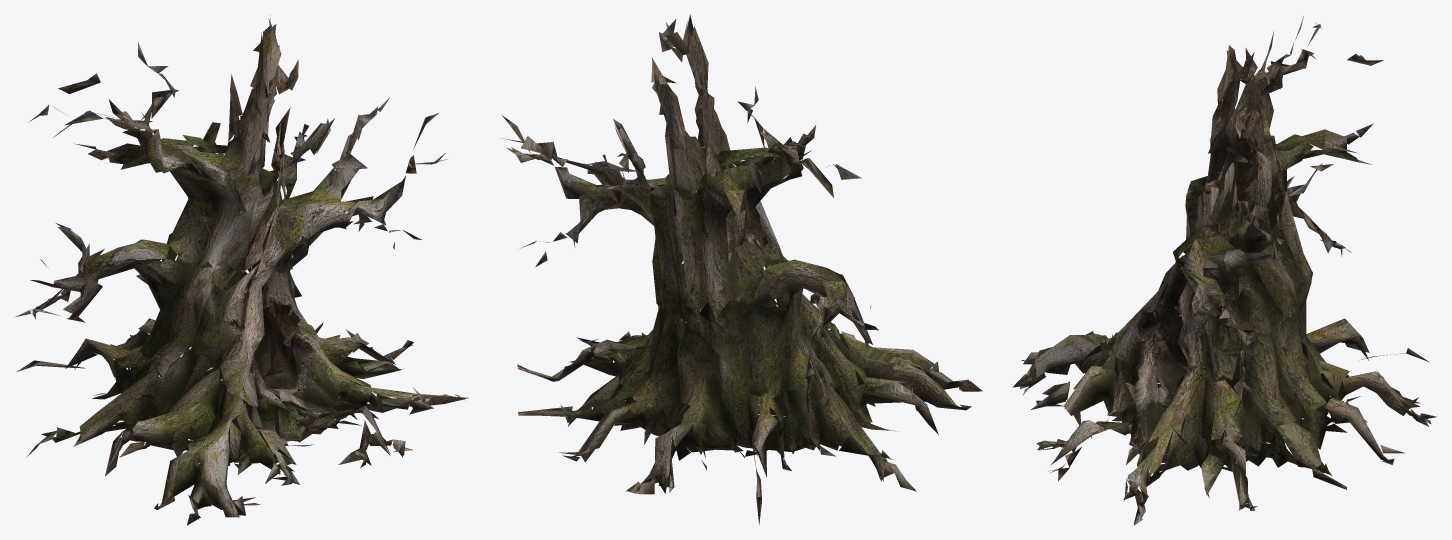
The model's file is tree_ancient.glb.
3 renders of one model, left to right at view 1: azimuth 30°, elevation 25°; view 2: azimuth 150°, elevation 25°; view 3: azimuth 270°, elevation 25°, orthographic. The views are drawn at different scales.
Parts seen in each view (by area): view 1: tripo_node_a9a5e387-6f7d-40e7-a6ee-155aab8a0312; view 2: tripo_node_a9a5e387-6f7d-40e7-a6ee-155aab8a0312; view 3: tripo_node_a9a5e387-6f7d-40e7-a6ee-155aab8a0312.
Part boxes in pixels (x1,y1,x2,y2): tripo_node_a9a5e387-6f7d-40e7-a6ee-155aab8a0312: (15, 15, 468, 525); tripo_node_a9a5e387-6f7d-40e7-a6ee-155aab8a0312: (500, 14, 982, 524); tripo_node_a9a5e387-6f7d-40e7-a6ee-155aab8a0312: (1012, 16, 1436, 525).
Size of the model in its own units: 1.09 by 0.9989 by 0.9308.
1 material, 1 textured.
